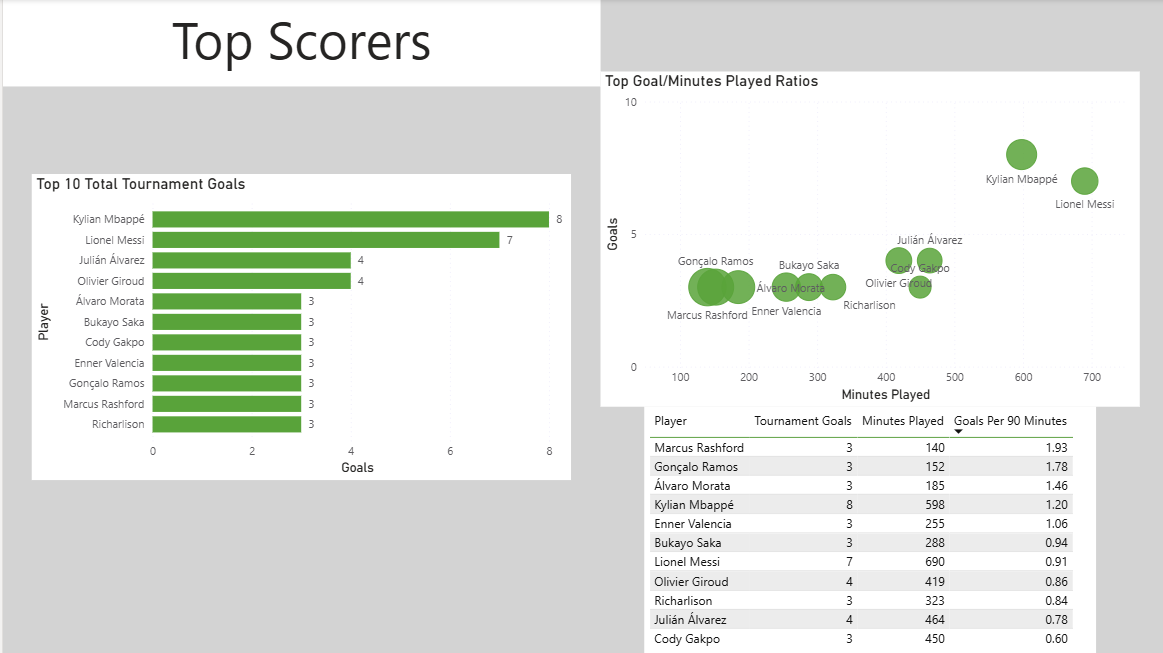

The page's visual inventory and layout, read from the dashboard file:
{"tool":"powerbi","page":{"name":"Top Scorers","canvas":[1280,720],"ordinal":1},"visuals":[{"type":"clusteredBarChart","title":"Top 10 Total Tournament Goals","fields":{"Category":["world_cup_2022_cleaned.player"],"Y":["Sum(world_cup_2022_cleaned.goals)"]},"box":[32,192,592,336],"z":0},{"type":"scatterChart","title":"Top Goal/Minutes Played Ratios","fields":{"Y":["Sum(cupData.goals)"],"X":["Sum(cupData.minutes)"],"Category":["cupData.player"],"Size":["Sum(cupData.goals_per90)"]},"box":[656,80,592,368],"z":1000},{"type":"tableEx","title":"Top Goal/Minutes Played Ratios","fields":{"Values":["cupData.player","Sum(cupData.goals)","Sum(cupData.minutes)","Sum(cupData.goals_per90)"]},"box":[704,448,496,272],"z":2000},{"type":"textbox","box":[0,0,656,96],"z":2001}]}

Visuals, with their boxes in screenshot pixels (x1, y1, x2, y2), scaled from the page's 1280x720 canvas onto the 1163x653 screenshot:
"Top 10 Total Tournament Goals" clusteredBarChart: l=29, t=174, r=567, b=479
"Top Goal/Minutes Played Ratios" scatterChart: l=596, t=73, r=1134, b=406
"Top Goal/Minutes Played Ratios" tableEx: l=640, t=406, r=1090, b=652
textbox: l=0, t=0, r=596, b=87
